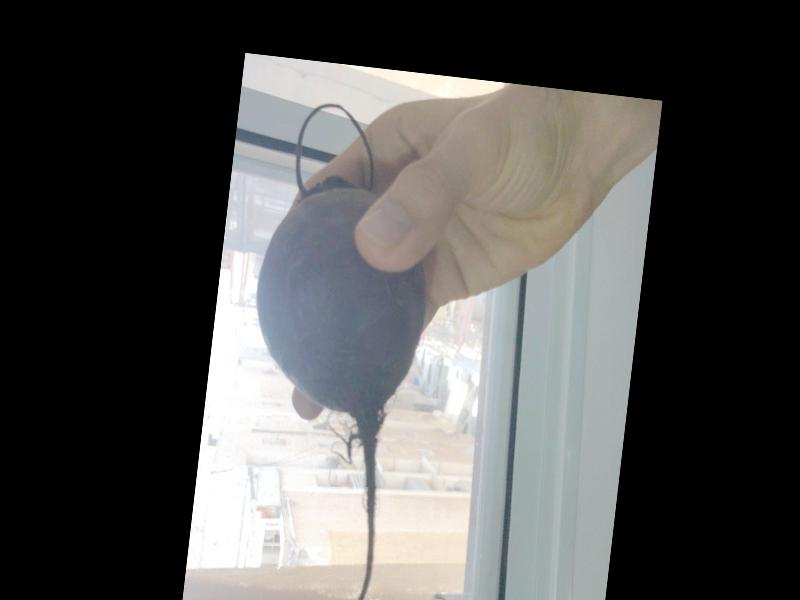Beet: (222, 99, 446, 600)
